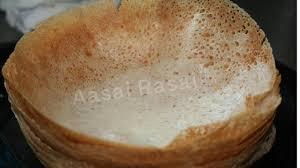Hoppers: (7, 0, 280, 162)
